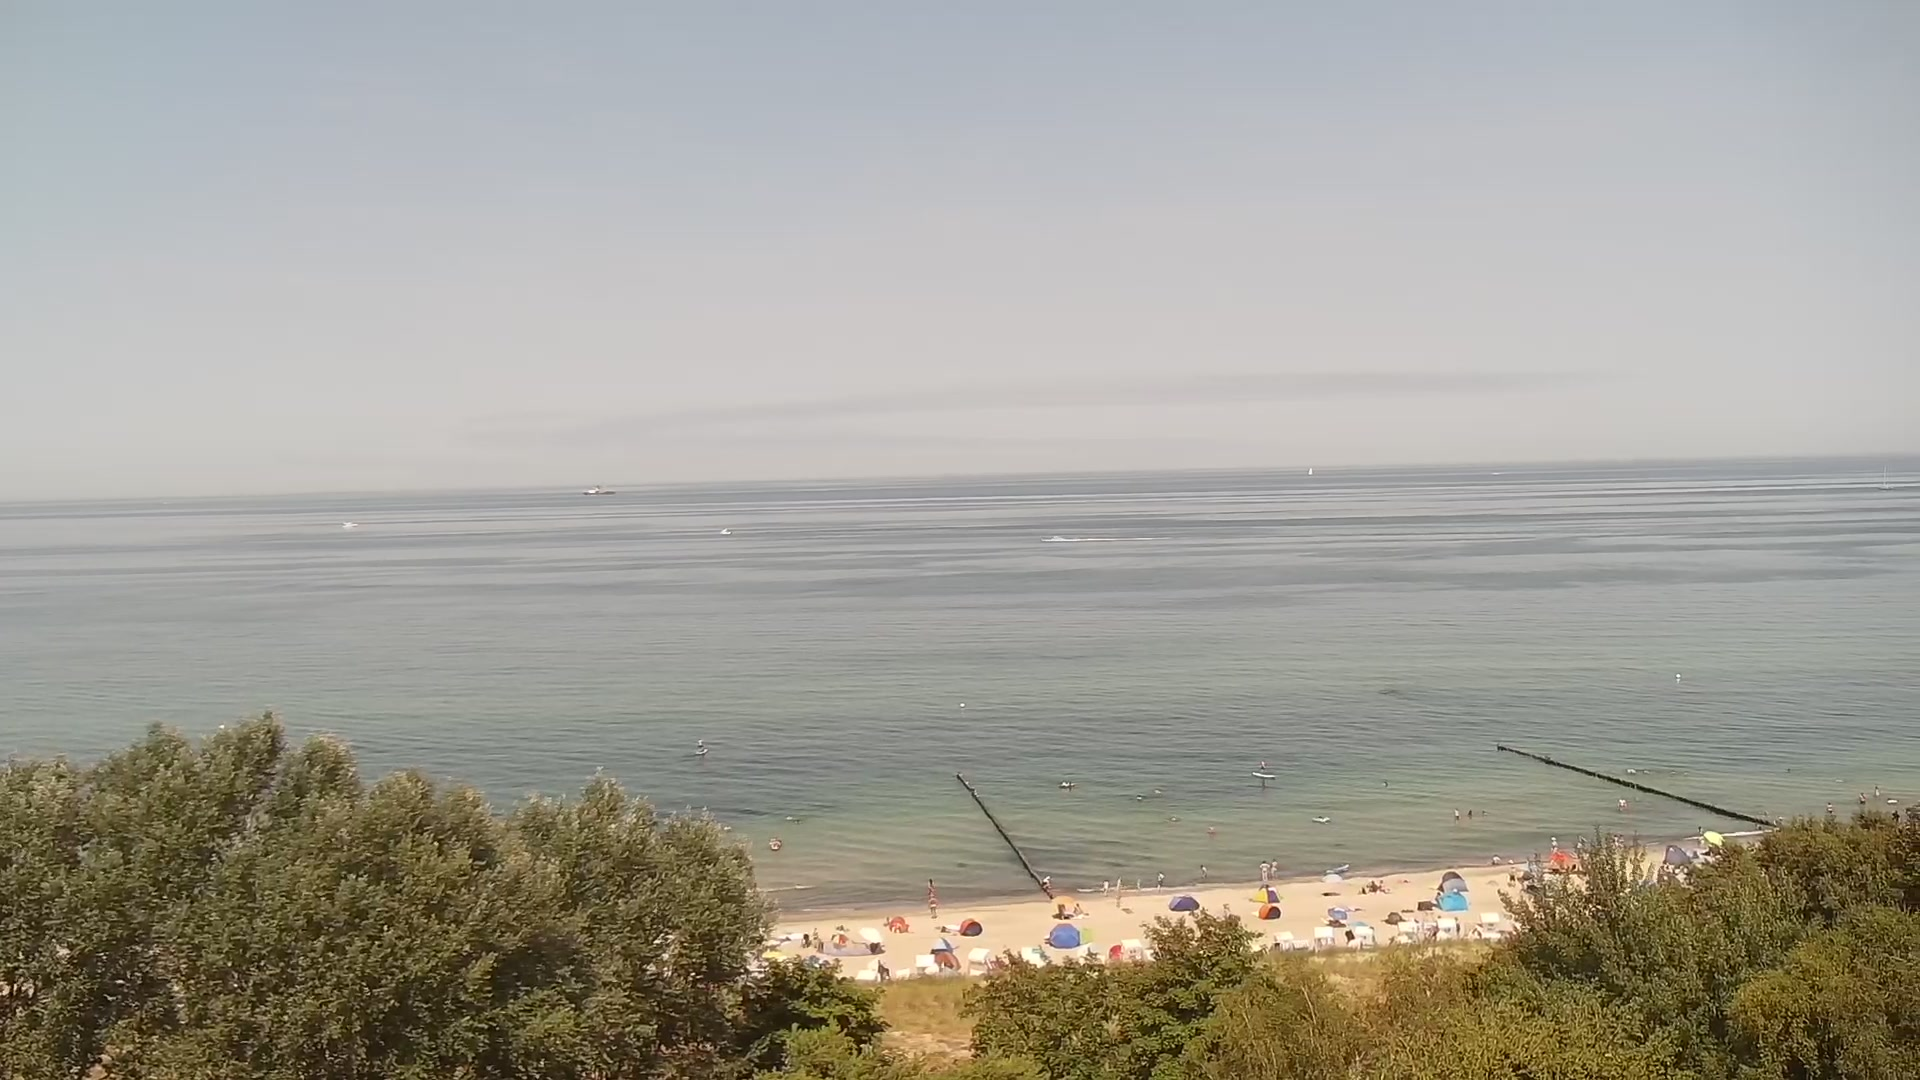human: (1155, 868, 1166, 892), (928, 893, 938, 916), (1270, 858, 1279, 881), (1259, 860, 1269, 879), (1072, 901, 1084, 915), (926, 877, 935, 895), (1041, 874, 1051, 890), (1199, 862, 1209, 878), (1508, 865, 1517, 885), (1617, 797, 1628, 810), (1857, 791, 1867, 805), (811, 926, 819, 943), (1551, 837, 1559, 854), (1259, 758, 1267, 774), (1134, 877, 1142, 891), (1116, 877, 1123, 892), (1377, 879, 1386, 891), (1491, 854, 1501, 866), (1368, 880, 1377, 892), (1453, 806, 1460, 821), (1825, 800, 1833, 814), (1102, 878, 1109, 893), (1872, 784, 1881, 797), (696, 736, 703, 749), (1696, 825, 1703, 836), (1467, 808, 1473, 818)
sea: (581, 483, 617, 495), (1878, 465, 1893, 490), (1251, 770, 1276, 778), (1311, 814, 1332, 823), (339, 521, 359, 529), (693, 747, 709, 755), (1058, 780, 1075, 788), (718, 527, 733, 535), (1305, 465, 1313, 475)
